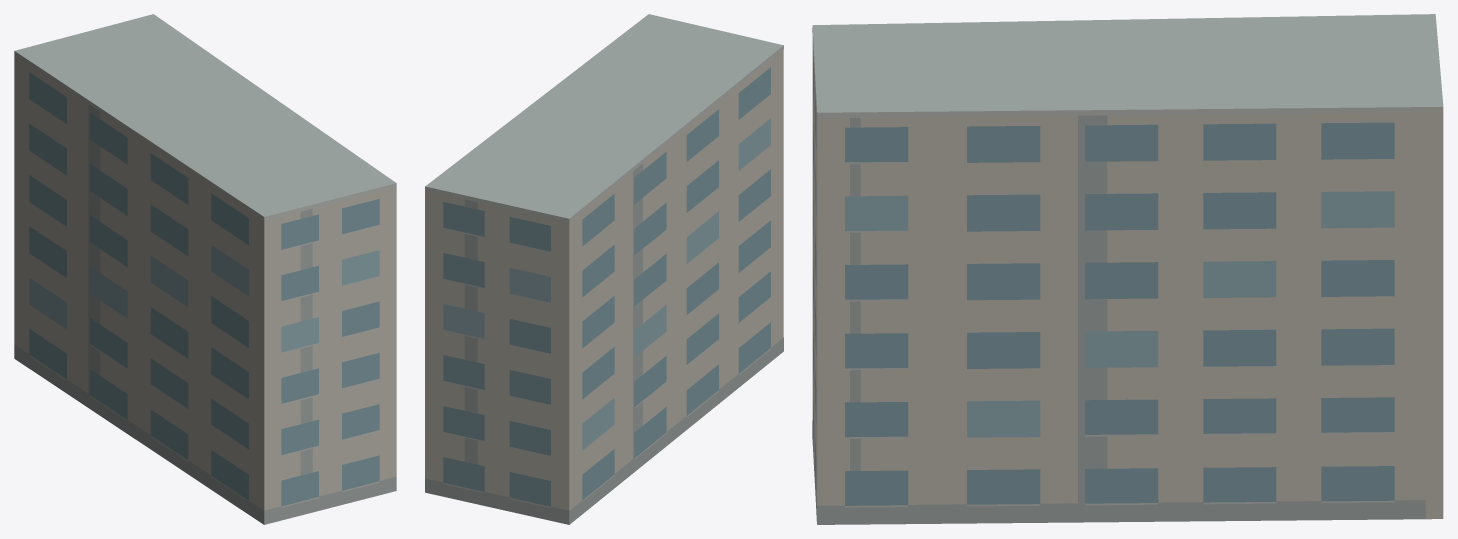
Rendered from survey-upis-32570187.glb.
The picture shows the model from 3 angles, left to right: view 1: azimuth 30°, elevation 25°; view 2: azimuth 150°, elevation 25°; view 3: azimuth 270°, elevation 25°; orthographic projection. The views are drawn at different scales.
Visible parts, largest first — view 1: survey-upis-32570187.tmp; view 2: survey-upis-32570187.tmp; view 3: survey-upis-32570187.tmp.
Part boxes in pixels (x1=…): survey-upis-32570187.tmp: x1=14, y1=14, x2=396, y2=524; survey-upis-32570187.tmp: x1=425, y1=14, x2=783, y2=524; survey-upis-32570187.tmp: x1=812, y1=14, x2=1443, y2=524.
Size of the model in its own units: 9.56 by 18.6 by 25.81.
